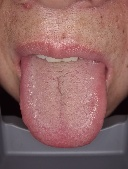tongue: (18, 64, 108, 150)
